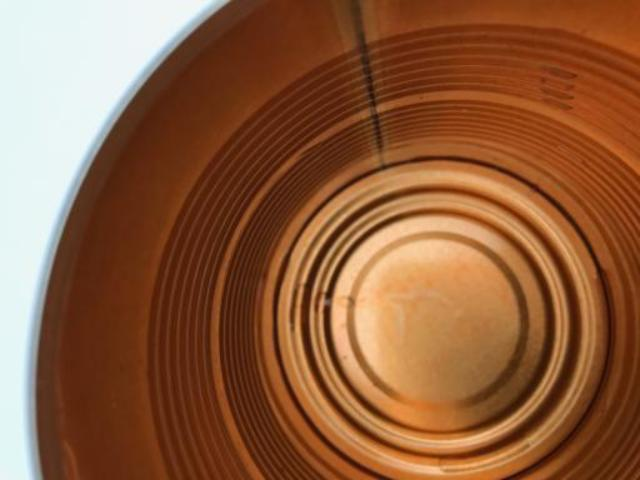metal: (36, 0, 639, 479)
